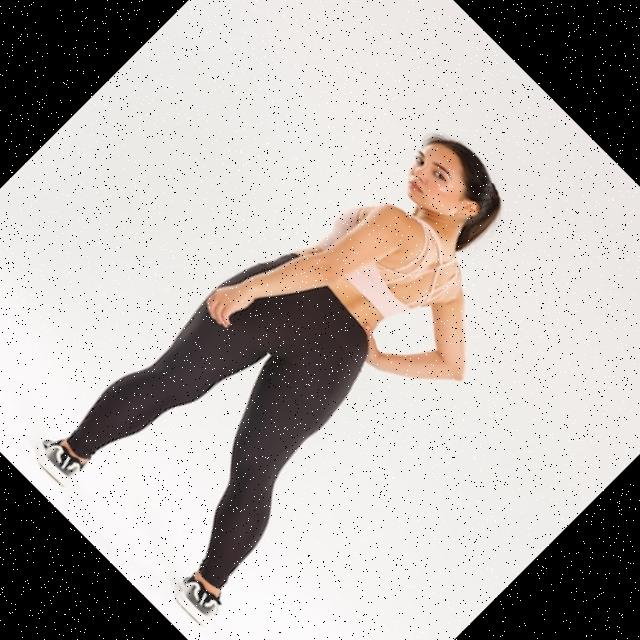Person: (26, 80, 579, 633)
